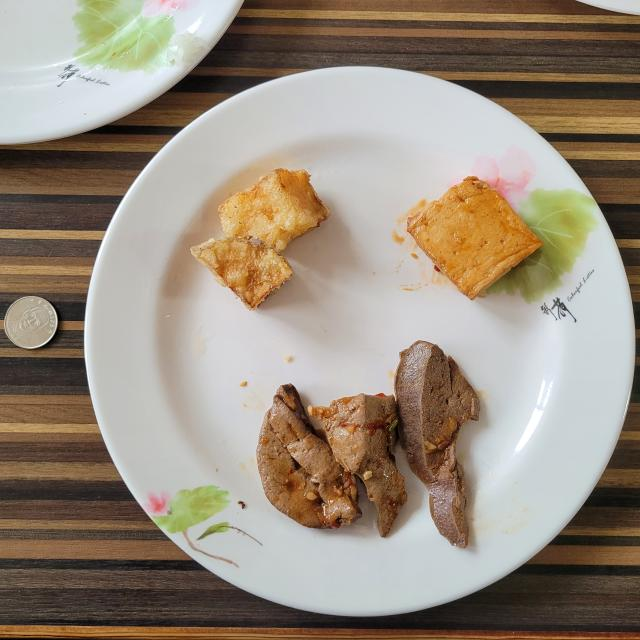coin: (4, 296, 58, 349)
creamy tofu: (408, 176, 542, 300)
fried potato: (191, 169, 330, 310)
pig liver: (256, 384, 406, 536), (395, 341, 480, 548)
